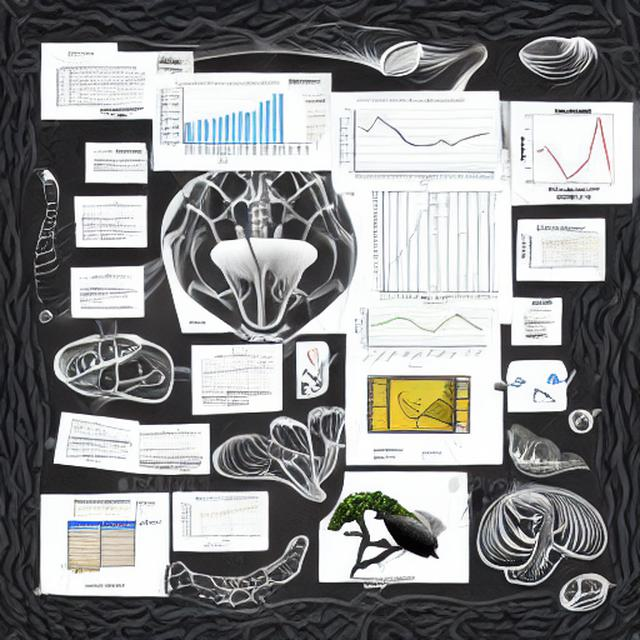Graph: (335, 95, 495, 189), (156, 79, 287, 166), (353, 294, 491, 371), (512, 104, 631, 193), (182, 494, 265, 544)
